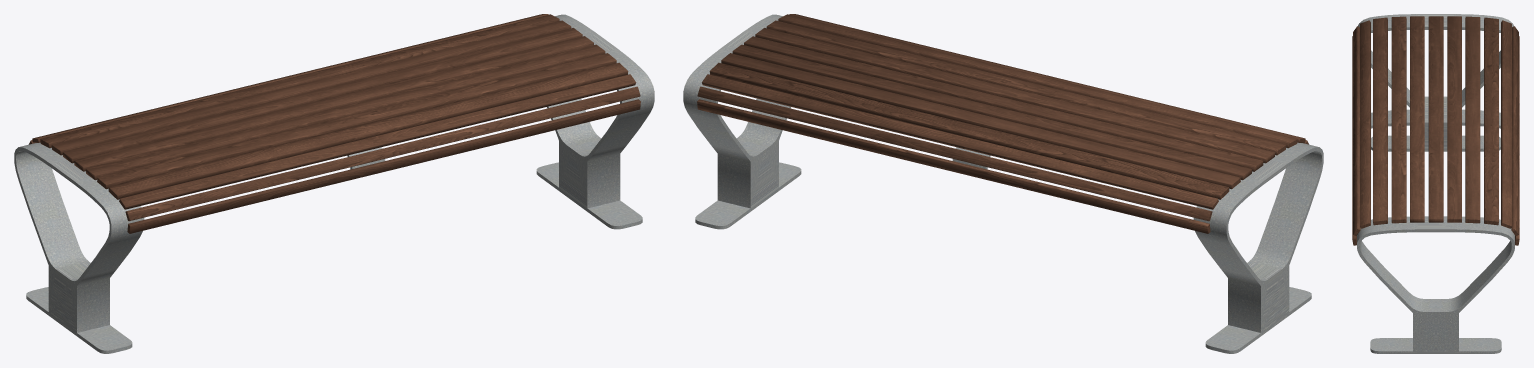
The model's file is banco_jardim.glb.
3 renders of one model, left to right at view 1: azimuth 30°, elevation 25°; view 2: azimuth 150°, elevation 25°; view 3: azimuth 270°, elevation 25°, orthographic. The views are drawn at different scales.
Parts seen in each view (by area): view 1: League; view 2: League; view 3: League.
Part boxes in pixels (x1=…): League: x1=14, y1=14, x2=654, y2=353; League: x1=683, y1=14, x2=1323, y2=353; League: x1=1352, y1=14, x2=1519, y2=353.
Size of the model in its own units: 1.65 by 0.4601 by 0.5428.
2 materials, 2 textured.
